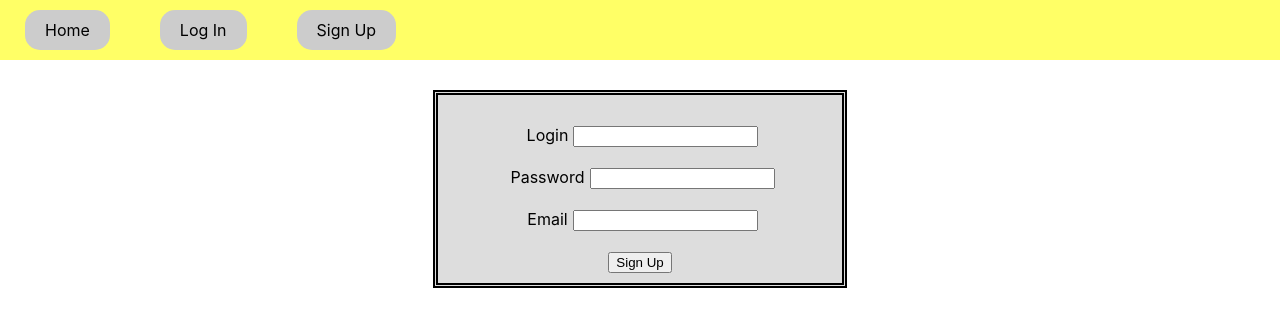
Test: cypress e2e without authorization › signup with not acceptable password
In the field with id "signup_form__login": (666, 137) x1=573 y1=126 x2=758 y2=147, type "login"
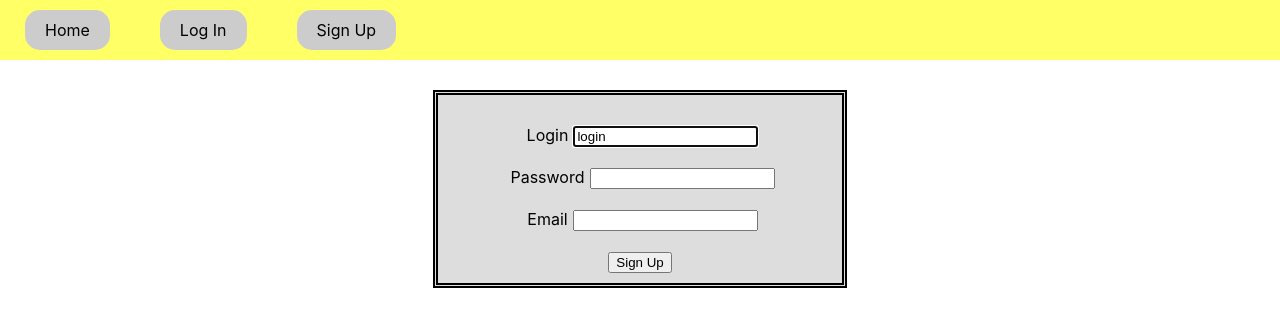
In the password field with id "signup_form__password": (683, 179) x1=590 y1=168 x2=775 y2=189, type "password"
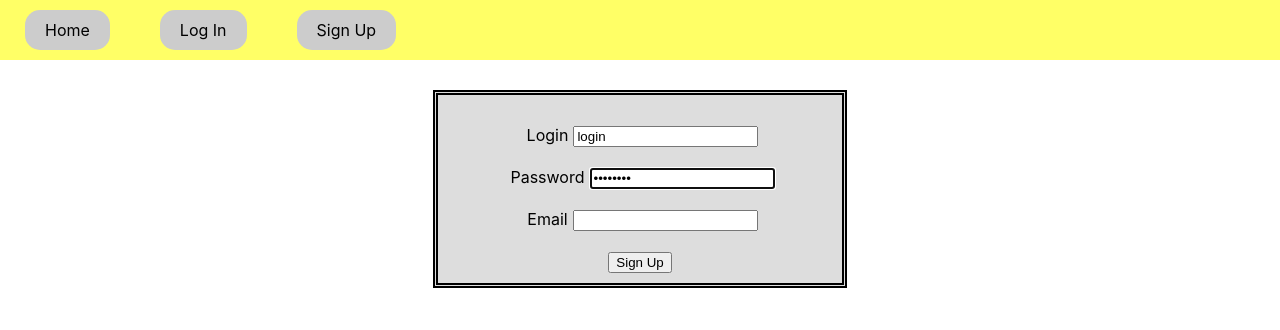
In the field with id "signup_form__email": (666, 221) x1=573 y1=210 x2=758 y2=231, type "aaa@bbb.ru"
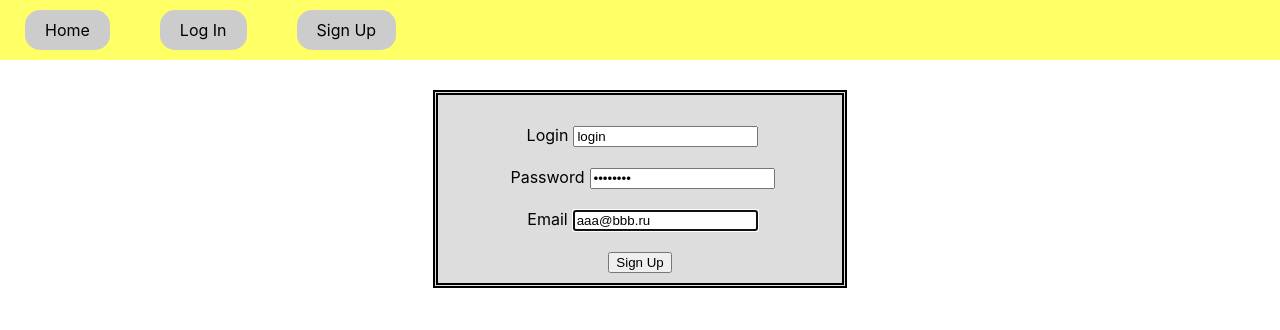
Click the button with id "signup_form__submit": (640, 263) x1=608 y1=252 x2=671 y2=273
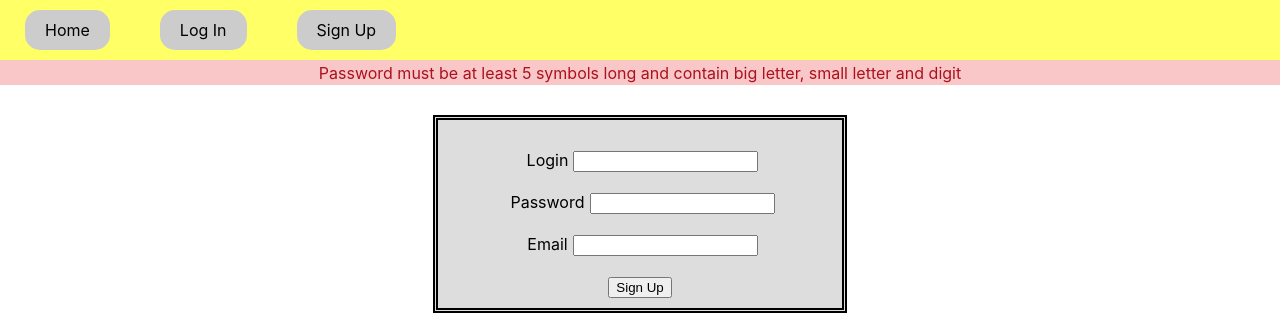
Check: the form with id "signup_form" is shown, box x1=433 y1=115 x2=847 y2=313
Check: the text with id "error__message" shows "Password must be at least 5 symbols long and contain big letter, small letter and digit", box x1=319 y1=63 x2=961 y2=83
